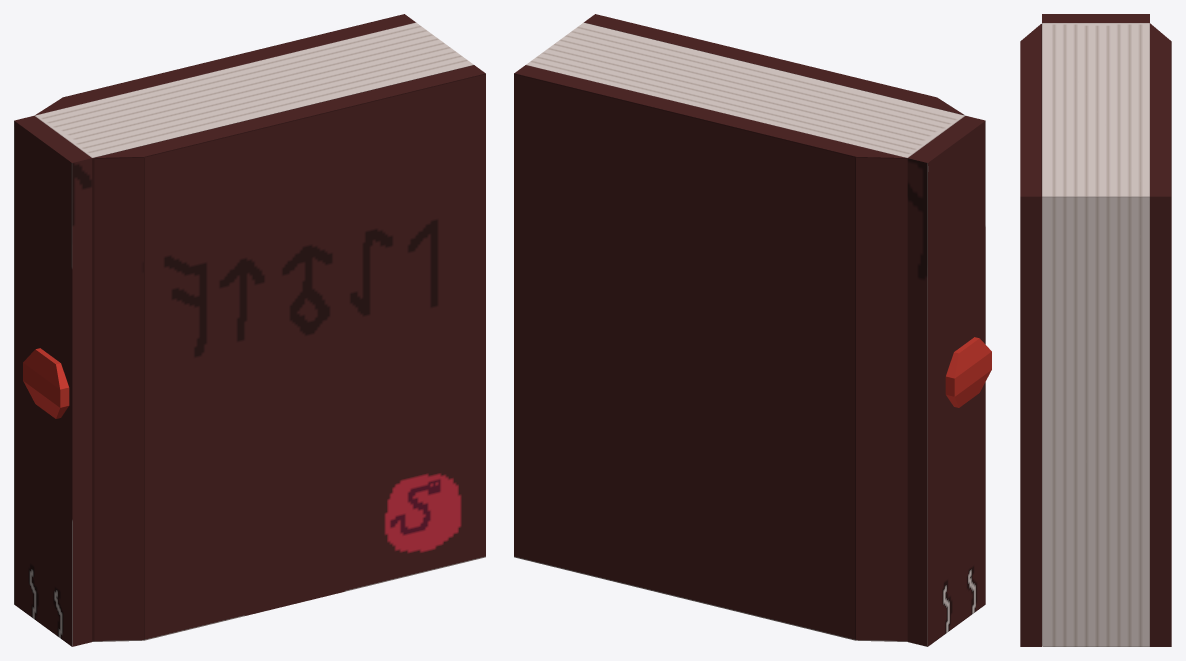
File: kitap.obj
3 renders of one model, left to right at view 1: azimuth 30°, elevation 25°; view 2: azimuth 150°, elevation 25°; view 3: azimuth 270°, elevation 25°, orthographic. The views are drawn at different scales.
Parts seen in each view (by area): view 1: cube; view 2: cube; view 3: cube.
Part boxes in pixels (x1,y1,x2,y2): cube: [14, 14, 485, 646]; cube: [514, 14, 991, 646]; cube: [1020, 14, 1171, 646].
Size of the model in its own units: 1.28 by 1.44 by 0.4375.
